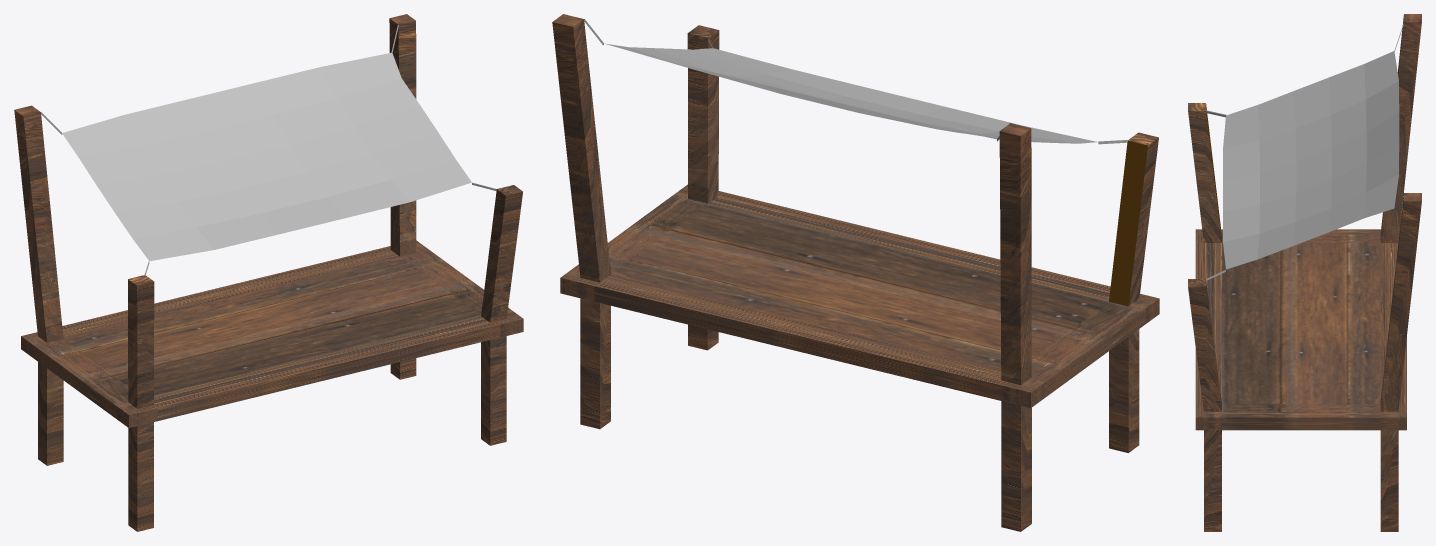
Rendered from depleted stall.glb.
3 renders of one model, left to right at view 1: azimuth 30°, elevation 25°; view 2: azimuth 150°, elevation 25°; view 3: azimuth 270°, elevation 25°, orthographic. The views are drawn at different scales.
Parts seen in each view (by area): view 1: Cube; view 2: Cube; view 3: Cube.
Boxes of the visible parts, x1,y1,x2,y2 form: Cube: (14,14,523,531); Cube: (552,14,1159,531); Cube: (1188,14,1421,531).
Size of the model in its own units: 1.9 by 1.58 by 0.9964.
3 materials, 1 textured.
